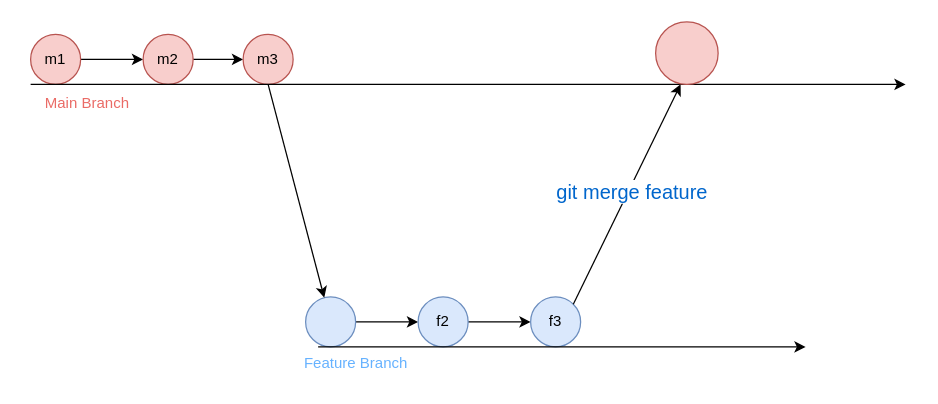
The diagram is 938 pixels wide and 404 high, and some of its shapes have lost their labels. Each missing label, with the centre of its shape:
f1: (x=330, y=321)
merge commit: (x=686, y=52)
